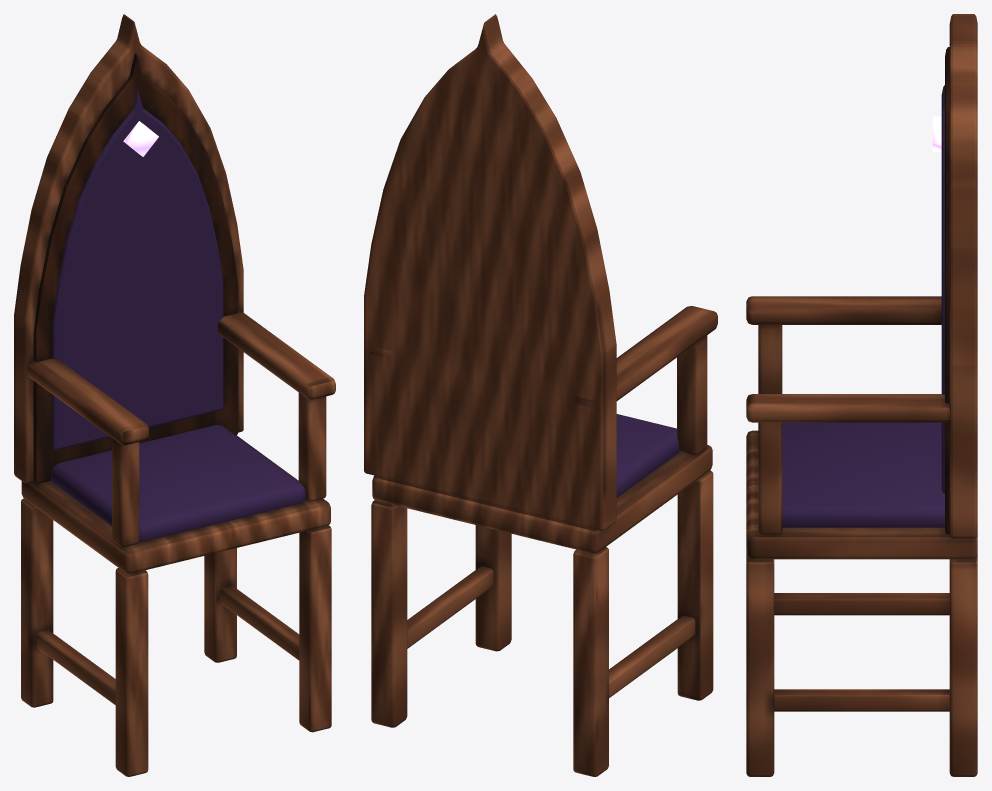
The model's file is pod-spire.glb.
The picture shows the model from 3 angles, left to right: view 1: azimuth 30°, elevation 25°; view 2: azimuth 150°, elevation 25°; view 3: azimuth 270°, elevation 25°; orthographic projection. The views are drawn at different scales.
Parts seen in each view (by area): view 1: Spire_Wood, Leather, Gems; view 2: Spire_Wood, Leather; view 3: Spire_Wood, Leather.
Boxes of the visible parts, box(x1,y1,x2,y2) form: Spire_Wood: box(14, 14, 335, 776); Leather: box(51, 90, 305, 541); Gems: box(123, 121, 158, 156); Spire_Wood: box(364, 14, 717, 776); Leather: box(616, 414, 679, 497); Spire_Wood: box(746, 14, 977, 776); Leather: box(782, 85, 944, 527).
Bounding box in the file's own units: 0.68 × 1.97 × 0.58.
Materials: 3 (1 with a texture image).
